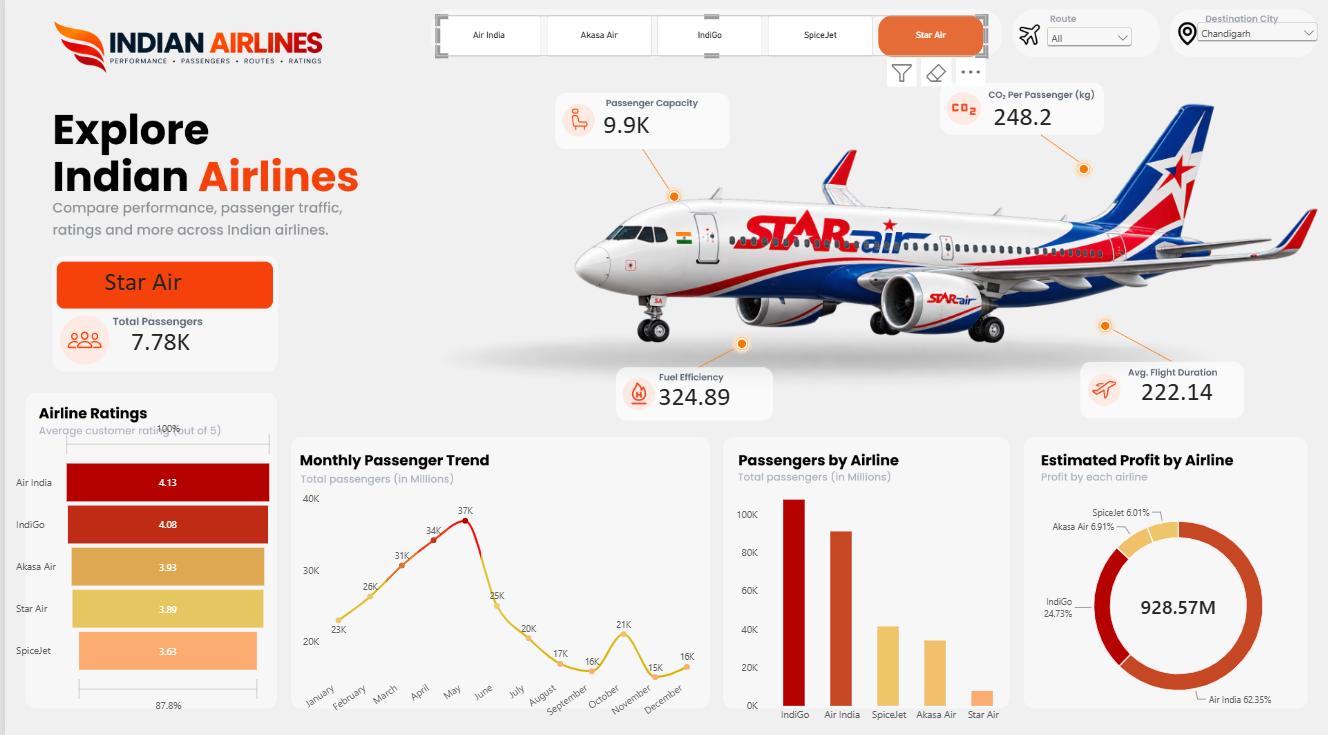

Layout of this report page (visuals, bound fields, positions):
{"tool":"powerbi","page":{"name":"Page 1","canvas":[1920,1080],"ordinal":0},"visuals":[{"type":"clusteredBarChart","fields":{"Category":["Flight_Data.Airline"],"Y":["Avg(Flight_Data.Customer_Rating)"]},"box":[0,598,446,462],"z":0},{"type":"clusteredColumnChart","fields":{"Category":["Flight_Data.Airline"],"Y":["Sum(Flight_Data.Passengers)"]},"box":[1042,702,434,372],"z":1000},{"type":"lineChart","fields":{"Category":["Flight_Data.Date.Variation.Date Hierarchy.Year","Flight_Data.Date.Variation.Date Hierarchy.Quarter","Flight_Data.Date.Variation.Date Hierarchy.Month"],"Y":["Sum(Flight_Data.Passengers)"]},"box":[404,706,618,374],"z":2000},{"type":"donutChart","fields":{"Category":["Flight_Data.Airline"],"Y":["Sum(Flight_Data.Estimated_Profit_INR)"]},"box":[1476,692,444,390],"z":3000},{"type":"advancedSlicerVisual","fields":{"Values":["Aircraft_Images.Airline"]},"box":[624,30,796,60],"z":4000},{"type":"image","box":[797.6,90.2,1095.1,529.3],"z":5000},{"type":"cardVisual","fields":{"Data":["Min(Aircraft_Images.Airline)"]},"box":[112,386,254,64],"z":6000},{"type":"cardVisual","fields":{"Data":["Measure Table.Total Passenger"]},"box":[150,468,180,72],"z":7000},{"type":"cardVisual","fields":{"Data":["Measure Table.Seat Capacity"]},"box":[834,158,254,64],"z":8000},{"type":"cardVisual","fields":{"Data":["Measure Table.CO2 per Passenger"]},"box":[1398,134,254,88],"z":9000},{"type":"cardVisual","fields":{"Data":["Measure Table.fule Efficiency"]},"box":[914,548,254,72],"z":10000},{"type":"cardVisual","fields":{"Data":["Measure Table.Avg flight duration"]},"box":[1612,534,188,86],"z":11000}]}

Visuals, with their boxes in screenshot pixels (x1, y1, x2, y2), scaled from the page's 1920x1080 canvas onto the 1328x735 screenshot:
clusteredBarChart - Flight_Data.Airline x Avg(Flight_Data.Customer_Rating): 0:407:308:721
clusteredColumnChart - Flight_Data.Airline x Sum(Flight_Data.Passengers): 721:478:1021:731
lineChart - Flight_Data.Date.Variation.Date Hierarchy.Year x Flight_Data.Date.Variation.Date Hierarchy.Quarter: 279:480:707:734
donutChart - Flight_Data.Airline x Sum(Flight_Data.Estimated_Profit_INR): 1021:471:1327:734
advancedSlicerVisual - Aircraft_Images.Airline: 432:20:982:61
image: 552:61:1309:422
cardVisual - Min(Aircraft_Images.Airline): 77:263:253:306
cardVisual - Measure Table.Total Passenger: 104:318:228:368
cardVisual - Measure Table.Seat Capacity: 577:108:753:151
cardVisual - Measure Table.CO2 per Passenger: 967:91:1143:151
cardVisual - Measure Table.fule Efficiency: 632:373:808:422
cardVisual - Measure Table.Avg flight duration: 1115:363:1245:422
